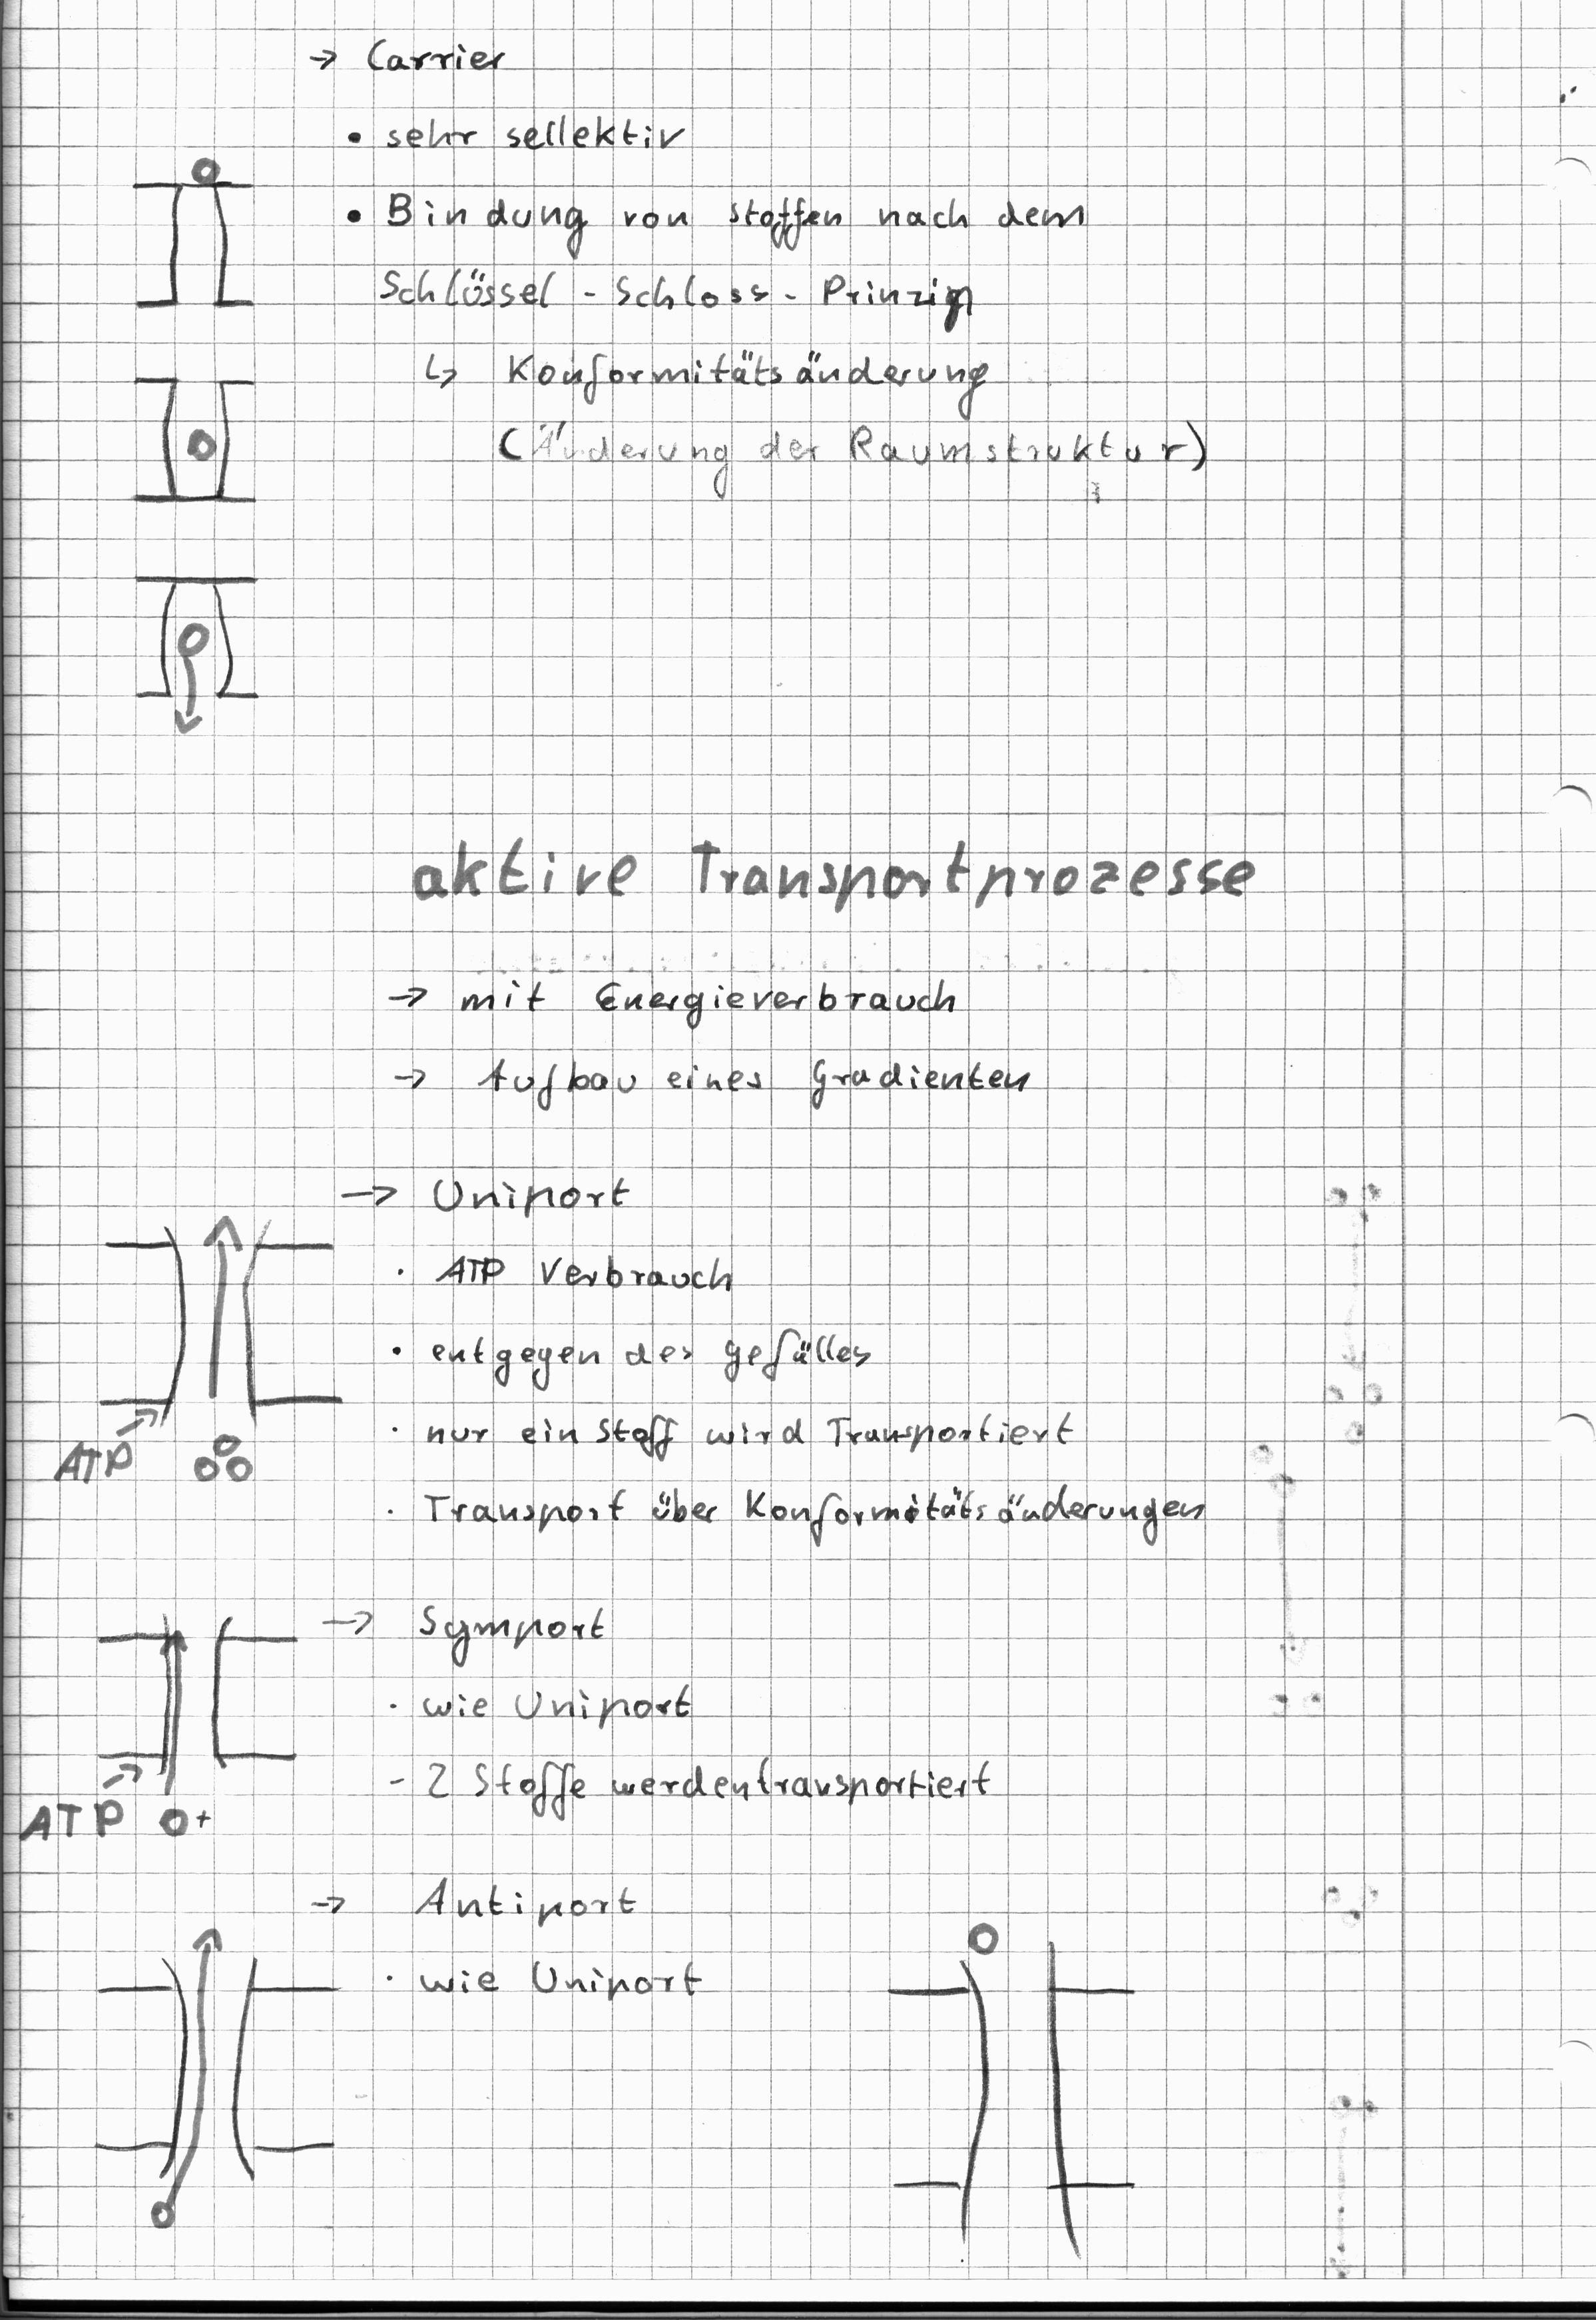word: (385, 1239, 1216, 1554), (338, 17, 1093, 330), (380, 1596, 1007, 1830), (378, 957, 1049, 1131), (419, 335, 999, 427), (377, 1866, 711, 2014), (331, 1151, 646, 1229), (312, 1592, 385, 1653), (304, 1875, 360, 1928)
